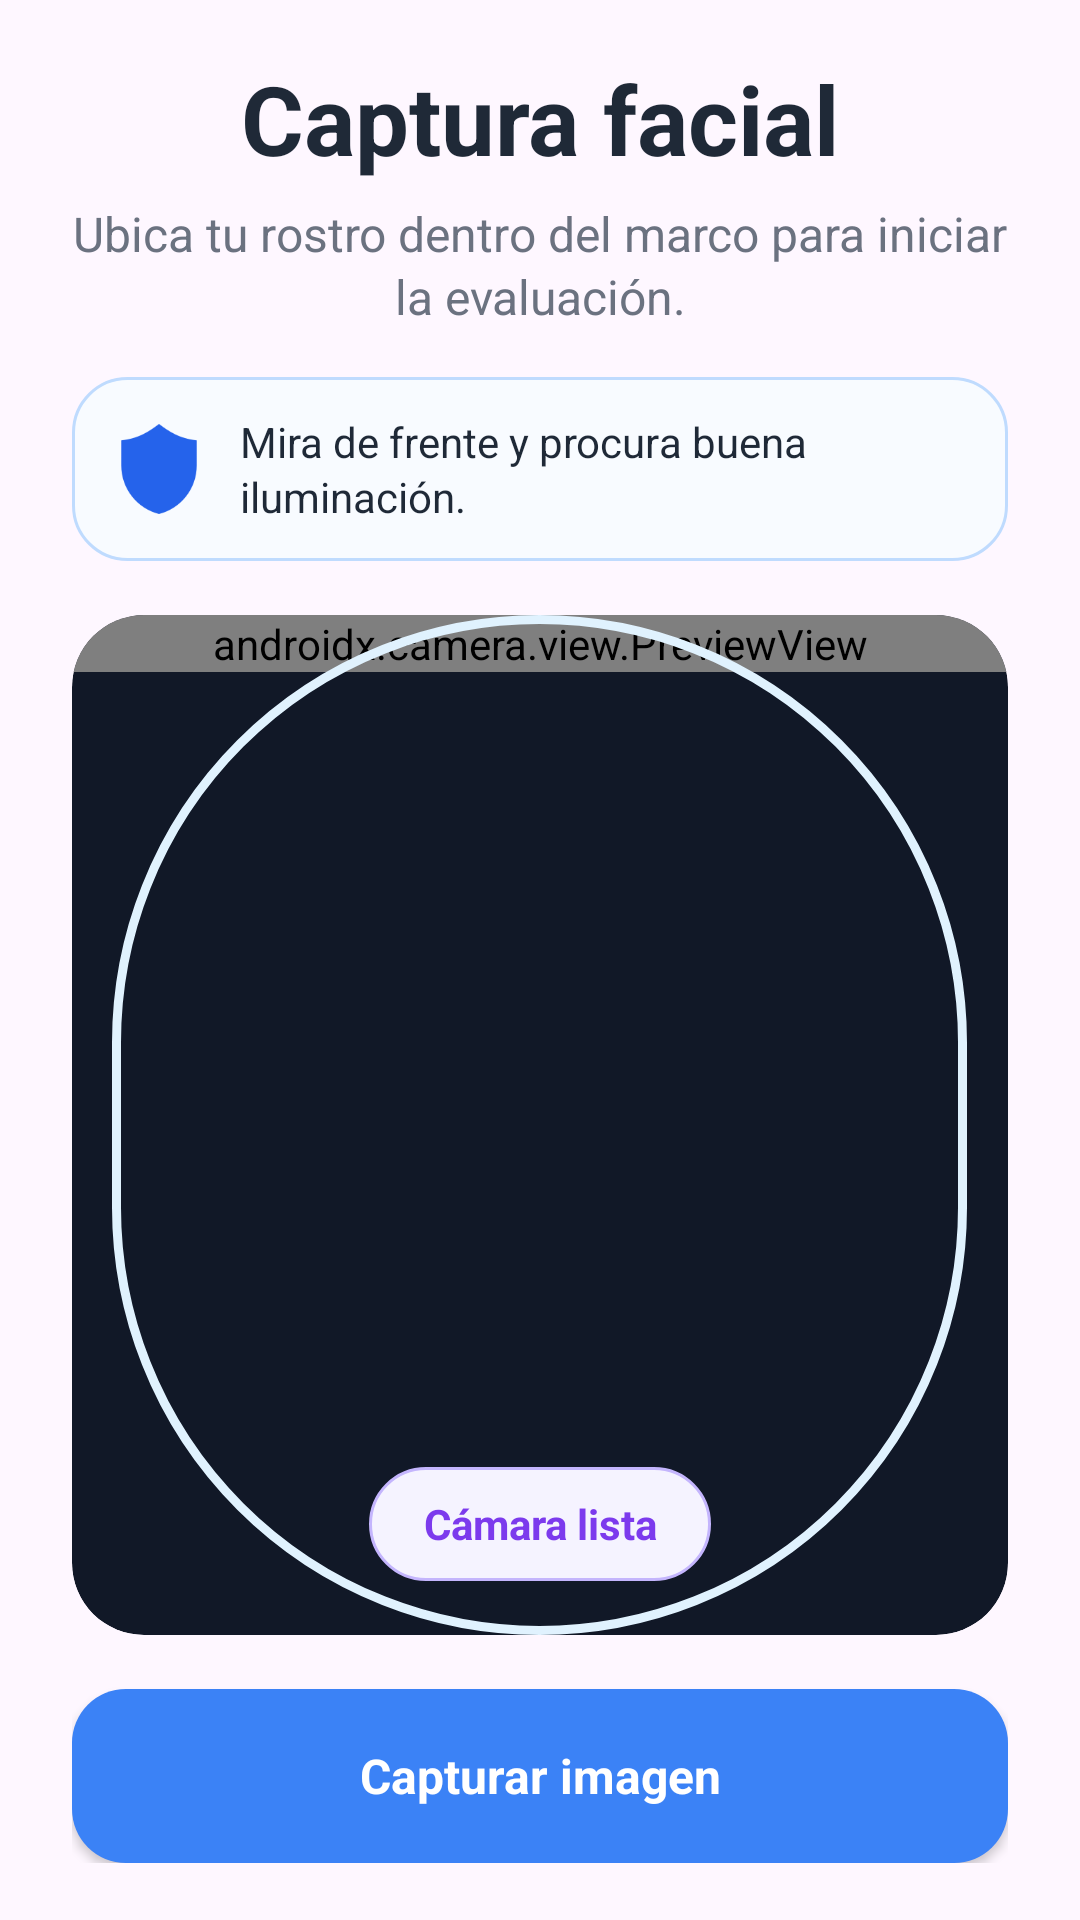

Locate icon controls on the screen. Image size 1080 x 1920, boxes as [left=x1, top=y1, right=x2, bottom=y2].
proteger: [left=121, top=424, right=197, bottom=514]
